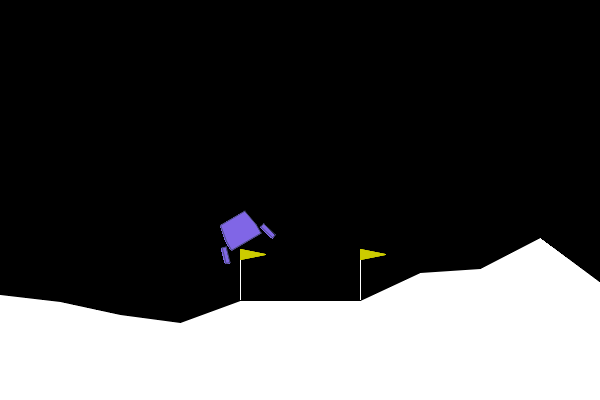lander: (205, 202, 277, 267)
